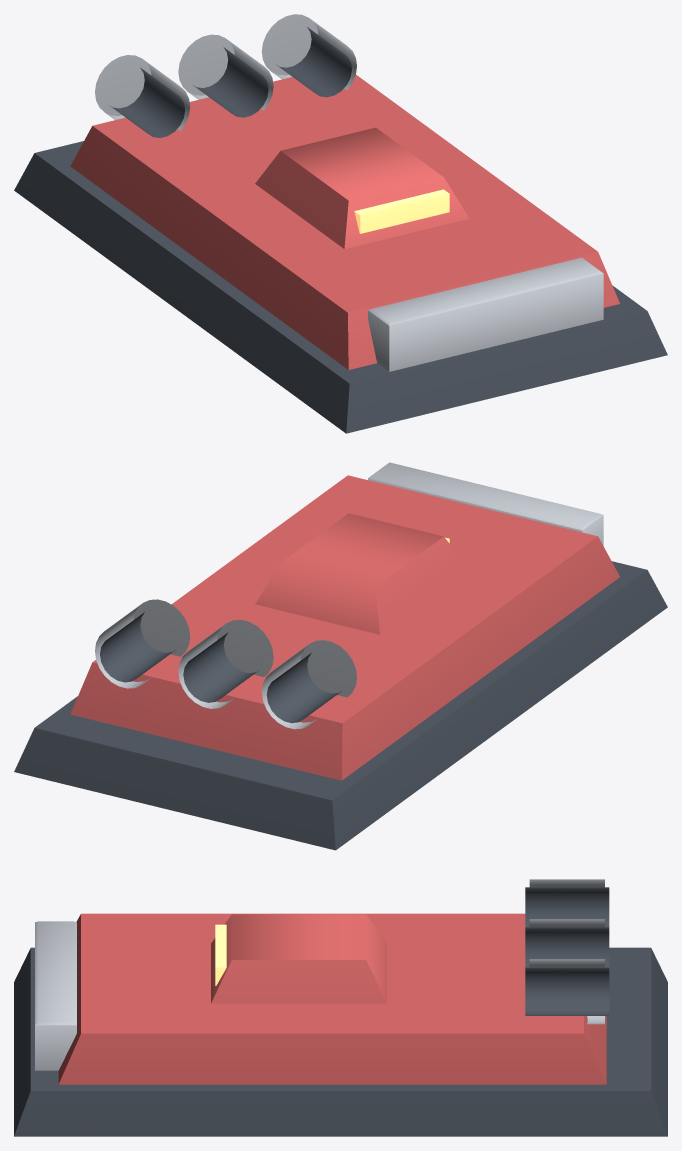
Rendered from soviet_zubr_transport.glb.
3 views of the same model, one above another, from view 1: azimuth 30°, elevation 25°; view 2: azimuth 150°, elevation 25°; view 3: azimuth 270°, elevation 25° (orthographic).
Visible parts, largest first — view 1: Hull; view 2: Hull; view 3: Hull.
Boxes of the visible parts, box(x1,y1,x2,y2) form: Hull: box(14, 14, 667, 433); Hull: box(14, 462, 667, 850); Hull: box(14, 879, 667, 1136).
Size of what is drawn, in the model's own units: 2.27 by 0.9365 by 4.06.
